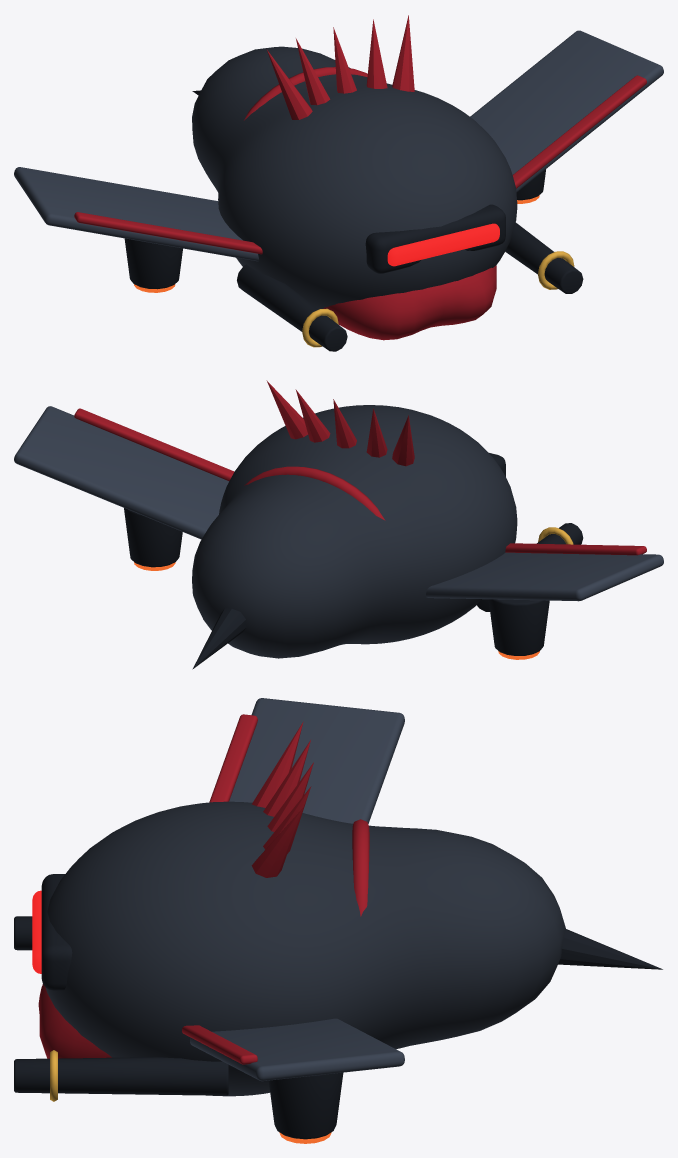
Rendered from hornet.glb.
3 renders of one model, top to bottom at view 1: azimuth 30°, elevation 25°; view 2: azimuth 150°, elevation 25°; view 3: azimuth 270°, elevation 25°, orthographic. The views are drawn at different scales.
Parts seen in each view (by area): view 1: hornet_body, hornet_wing_L, hornet_wing_R, hornet_jaw, hornet_gun_R, hornet_visor_frame, hornet_pod_R, hornet_wing_edge_L, hornet_gun_L, hornet_eye, hornet_wing_edge_R, hornet_spike_0 (+5 smaller); view 2: hornet_body, hornet_wing_L, hornet_wing_R, hornet_pod_R, hornet_pod_L, hornet_wing_edge_L, hornet_wing_edge_R, hornet_stripe_0, hornet_stinger, hornet_spike_4, hornet_spike_3, hornet_spike_0 (+3 smaller); view 3: hornet_body, hornet_wing_R, hornet_wing_L, hornet_gun_L, hornet_pod_L, hornet_jaw, hornet_visor_frame, hornet_stinger, hornet_wing_edge_R, hornet_stripe_0, hornet_spike_4, hornet_wing_edge_L (+5 smaller).
Part boxes in pixels (left/top/right/bottom): hornet_body: left=192, top=46, right=517, bottom=309; hornet_wing_L: left=470, top=30, right=663, bottom=192; hornet_wing_R: left=14, top=167, right=258, bottom=261; hornet_jaw: left=323, top=265, right=496, bottom=340; hornet_gun_R: left=237, top=264, right=347, bottom=351; hornet_visor_frame: left=365, top=204, right=505, bottom=273; hornet_pod_R: left=124, top=238, right=182, bottom=289; hornet_wing_edge_L: left=512, top=75, right=646, bottom=188; hornet_gun_L: left=505, top=222, right=583, bottom=293; hornet_eye: left=387, top=223, right=499, bottom=266; hornet_wing_edge_R: left=74, top=212, right=262, bottom=254; hornet_spike_0: left=267, top=50, right=312, bottom=119; hornet_body: left=192, top=405, right=517, bottom=658; hornet_wing_L: left=14, top=406, right=228, bottom=539; hornet_wing_R: left=426, top=552, right=663, bottom=601; hornet_pod_R: left=488, top=599, right=549, bottom=655; hornet_pod_L: left=124, top=508, right=182, bottom=567; hornet_wing_edge_L: left=74, top=408, right=234, bottom=480; hornet_wing_edge_R: left=505, top=543, right=646, bottom=555; hornet_stripe_0: left=244, top=466, right=385, bottom=520; hornet_stinger: left=192, top=608, right=246, bottom=669; hornet_spike_4: left=266, top=380, right=307, bottom=439; hornet_spike_3: left=295, top=389, right=330, bottom=442; hornet_spike_0: left=392, top=415, right=414, bottom=466; hornet_body: left=46, top=801, right=565, bottom=1096; hornet_wing_R: left=229, top=698, right=404, bottom=823; hornet_wing_L: left=190, top=1018, right=404, bottom=1081; hornet_gun_L: left=14, top=1057, right=228, bottom=1095; hornet_pod_L: left=268, top=1072, right=343, bottom=1139; hornet_jaw: left=38, top=984, right=111, bottom=1058; hornet_visor_frame: left=41, top=874, right=72, bottom=990; hornet_stinger: left=558, top=929, right=662, bottom=969; hornet_wing_edge_R: left=209, top=714, right=257, bottom=802; hornet_stripe_0: left=352, top=819, right=369, bottom=916; hornet_spike_4: left=251, top=807, right=303, bottom=877; hornet_wing_edge_L: left=182, top=1025, right=257, bottom=1064.
Size of the model in its own units: 2.88 by 1.12 by 2.12.
